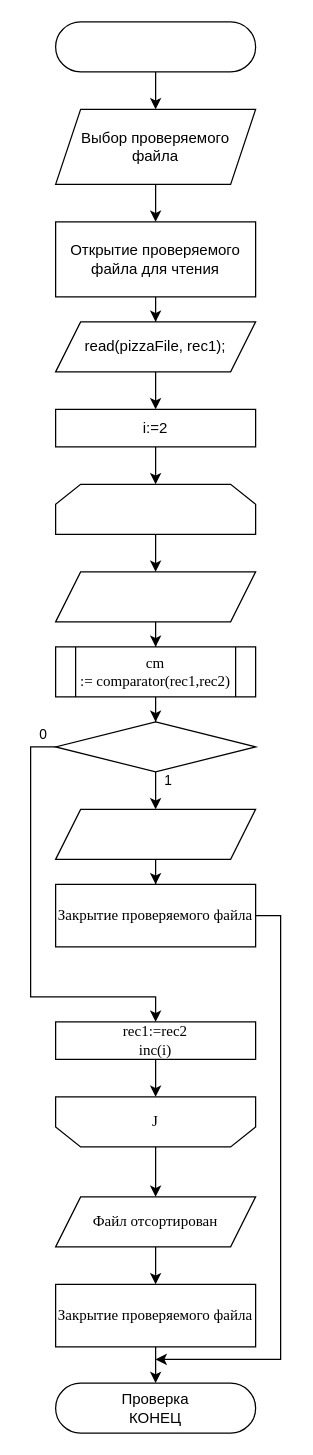
Some shapes in this 313 by 1455 pixel diagram are drawn without their labels. Here are the shapes that lost their labels. From the top down, the box of each, then its label:
(54, 21, 256, 72): Проверка НАЧАЛО
(54, 483, 256, 534): J i > filesize(pizzaFile)
(54, 571, 256, 622): read(pizzaFile, rec2);
(54, 721, 256, 772): cm
(54, 808, 256, 859): Файл не отсортирован
